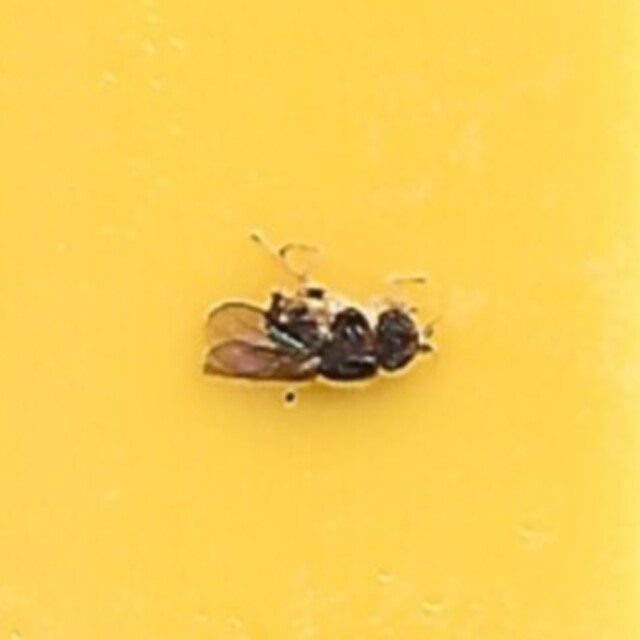Brachycera: (197, 236, 443, 404)
